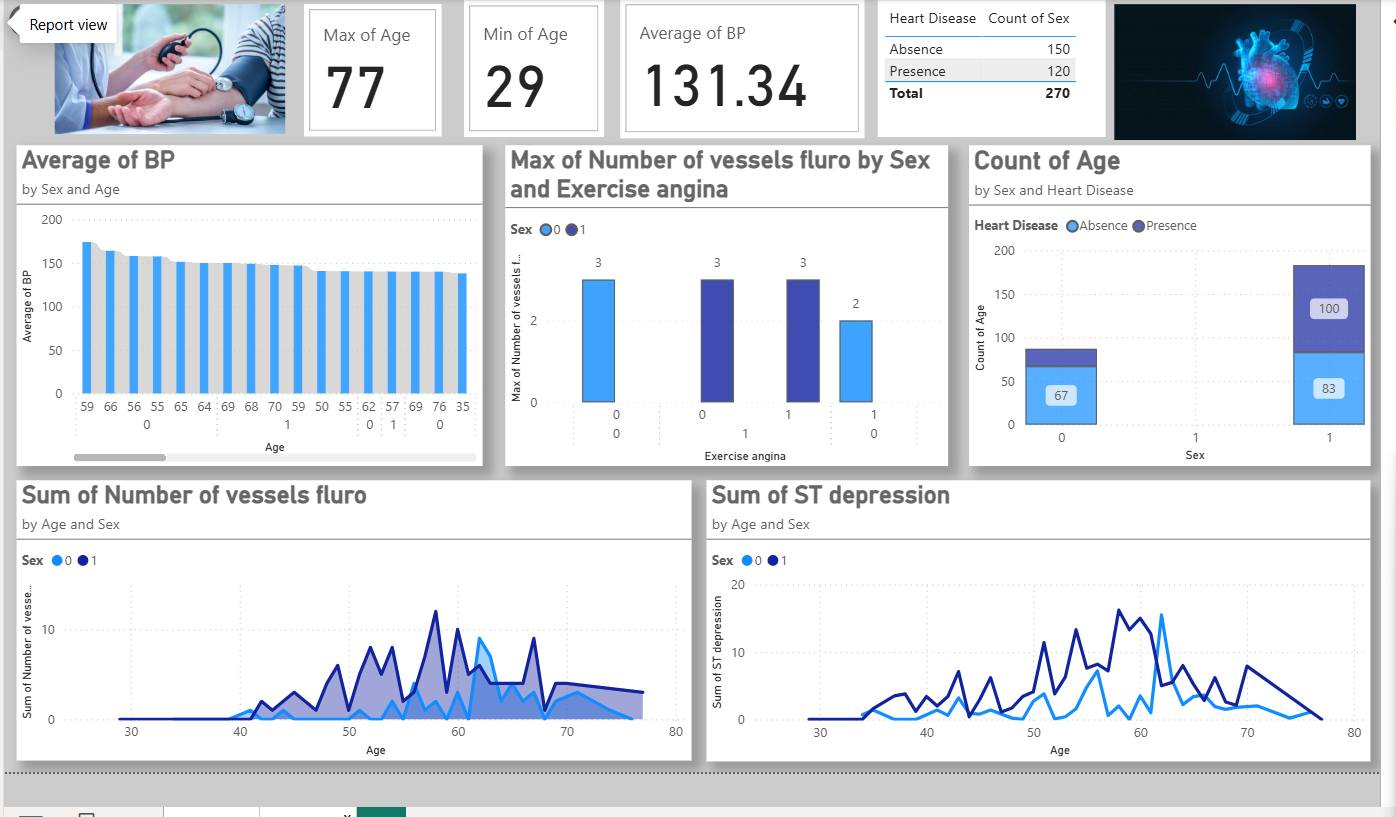

Layout of this report page (visuals, bound fields, positions):
{"tool":"powerbi","page":{"name":"Page 2","canvas":[1280,720],"ordinal":1},"visuals":[{"type":"ribbonChart","fields":{"Category":["heart_disease_prediction.Sex","heart_disease_prediction.Age"],"Y":["Avg(heart_disease_prediction.BP)"]},"box":[12,136,433.3,298.7],"z":0},{"type":"lineClusteredColumnComboChart","title":"Max of Number of vessels fluro by Sex and Exercise angina ","fields":{"Category":["heart_disease_prediction.Sex","heart_disease_prediction.Exercise angina"],"Series":["heart_disease_prediction.Sex"],"Y":["Max(heart_disease_prediction.Number of vessels fluro)"]},"box":[466.7,136,412,298.7],"z":1000},{"type":"lineStackedColumnComboChart","fields":{"Category":["heart_disease_prediction.Sex"],"Y":["CountNonNull(heart_disease_prediction.Age)"],"Series":["heart_disease_prediction.Heart Disease"]},"box":[897.3,136,373.3,298.7],"z":2000},{"type":"areaChart","fields":{"Category":["heart_disease_prediction.Age"],"Y":["Sum(heart_disease_prediction.Number of vessels fluro)"],"Series":["heart_disease_prediction.Sex"]},"box":[11.6,447.7,627.9,261.6],"z":3000},{"type":"lineChart","fields":{"Y":["Sum(heart_disease_prediction.ST depression)"],"Category":["heart_disease_prediction.Age"],"Series":["heart_disease_prediction.Sex"]},"box":[653.3,448,617.3,261.3],"z":4000},{"type":"cardVisual","fields":{"Data":["Min(heart_disease_prediction.Age)"]},"box":[428.2,1.2,130.6,127.1],"z":5000},{"type":"cardVisual","fields":{"Data":["Avg(heart_disease_prediction.BP)"]},"box":[572.9,0,227.1,129.4],"z":6000},{"type":"image","box":[0,0,308.2,130.6],"z":7000},{"type":"image","box":[1010.6,0,269.4,136.5],"z":8000},{"type":"cardVisual","fields":{"Data":["Max(heart_disease_prediction.Age)"]},"box":[278.8,4.7,128.2,123.5],"z":9000},{"type":"tableEx","fields":{"Values":["heart_disease_prediction.Heart Disease","CountNonNull(heart_disease_prediction.Sex)"]},"box":[815.1,30.2,211.6,105.8],"z":10000},{"type":"actionButton","box":[0,0,100,40],"z":11000}]}

Visuals, with their boxes in screenshot pixels (x1, y1, x2, y2):
ribbonChart - heart_disease_prediction.Sex x heart_disease_prediction.Age: bbox=[13, 143, 479, 464]
"Max of Number of vessels fluro by Sex and Exercise angina " lineClusteredColumnComboChart: bbox=[502, 143, 945, 464]
lineStackedColumnComboChart - heart_disease_prediction.Sex x CountNonNull(heart_disease_prediction.Age): bbox=[965, 143, 1367, 464]
areaChart - heart_disease_prediction.Age x Sum(heart_disease_prediction.Number of vessels fluro): bbox=[12, 478, 688, 759]
lineChart - Sum(heart_disease_prediction.ST depression) x heart_disease_prediction.Age: bbox=[703, 478, 1367, 759]
cardVisual - Min(heart_disease_prediction.Age): bbox=[461, 0, 601, 134]
cardVisual - Avg(heart_disease_prediction.BP): bbox=[616, 0, 860, 136]
image: bbox=[0, 0, 331, 137]
image: bbox=[1087, 0, 1377, 143]
cardVisual - Max(heart_disease_prediction.Age): bbox=[300, 1, 438, 134]
tableEx - heart_disease_prediction.Heart Disease x CountNonNull(heart_disease_prediction.Sex): bbox=[877, 29, 1104, 143]
actionButton: bbox=[0, 0, 108, 39]
